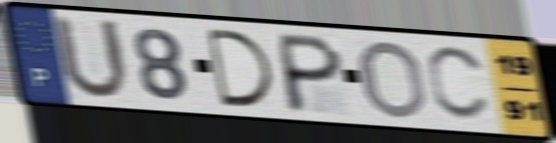8: (131, 26, 192, 102)
C: (424, 44, 493, 125)
D: (201, 26, 278, 110)
O: (357, 38, 431, 121)
P: (278, 31, 347, 116)
U: (49, 12, 133, 104)
